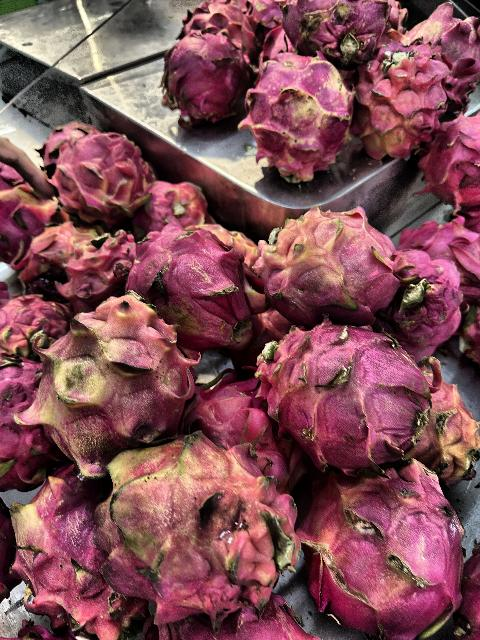buah-naga-belum-matang: (92, 433, 308, 619), (27, 290, 197, 470), (4, 466, 142, 640), (244, 208, 404, 330), (255, 45, 355, 182), (422, 368, 480, 489), (24, 222, 94, 274)
buah-naga-matang: (304, 470, 462, 640), (253, 328, 431, 460), (129, 226, 255, 356), (183, 374, 301, 478), (360, 40, 440, 158), (166, 22, 250, 134), (387, 246, 465, 344), (408, 3, 480, 105), (272, 1, 388, 64), (0, 352, 48, 490), (420, 109, 480, 207), (406, 221, 480, 289), (180, 0, 258, 54), (0, 292, 66, 353), (70, 238, 130, 300), (142, 181, 204, 227)
